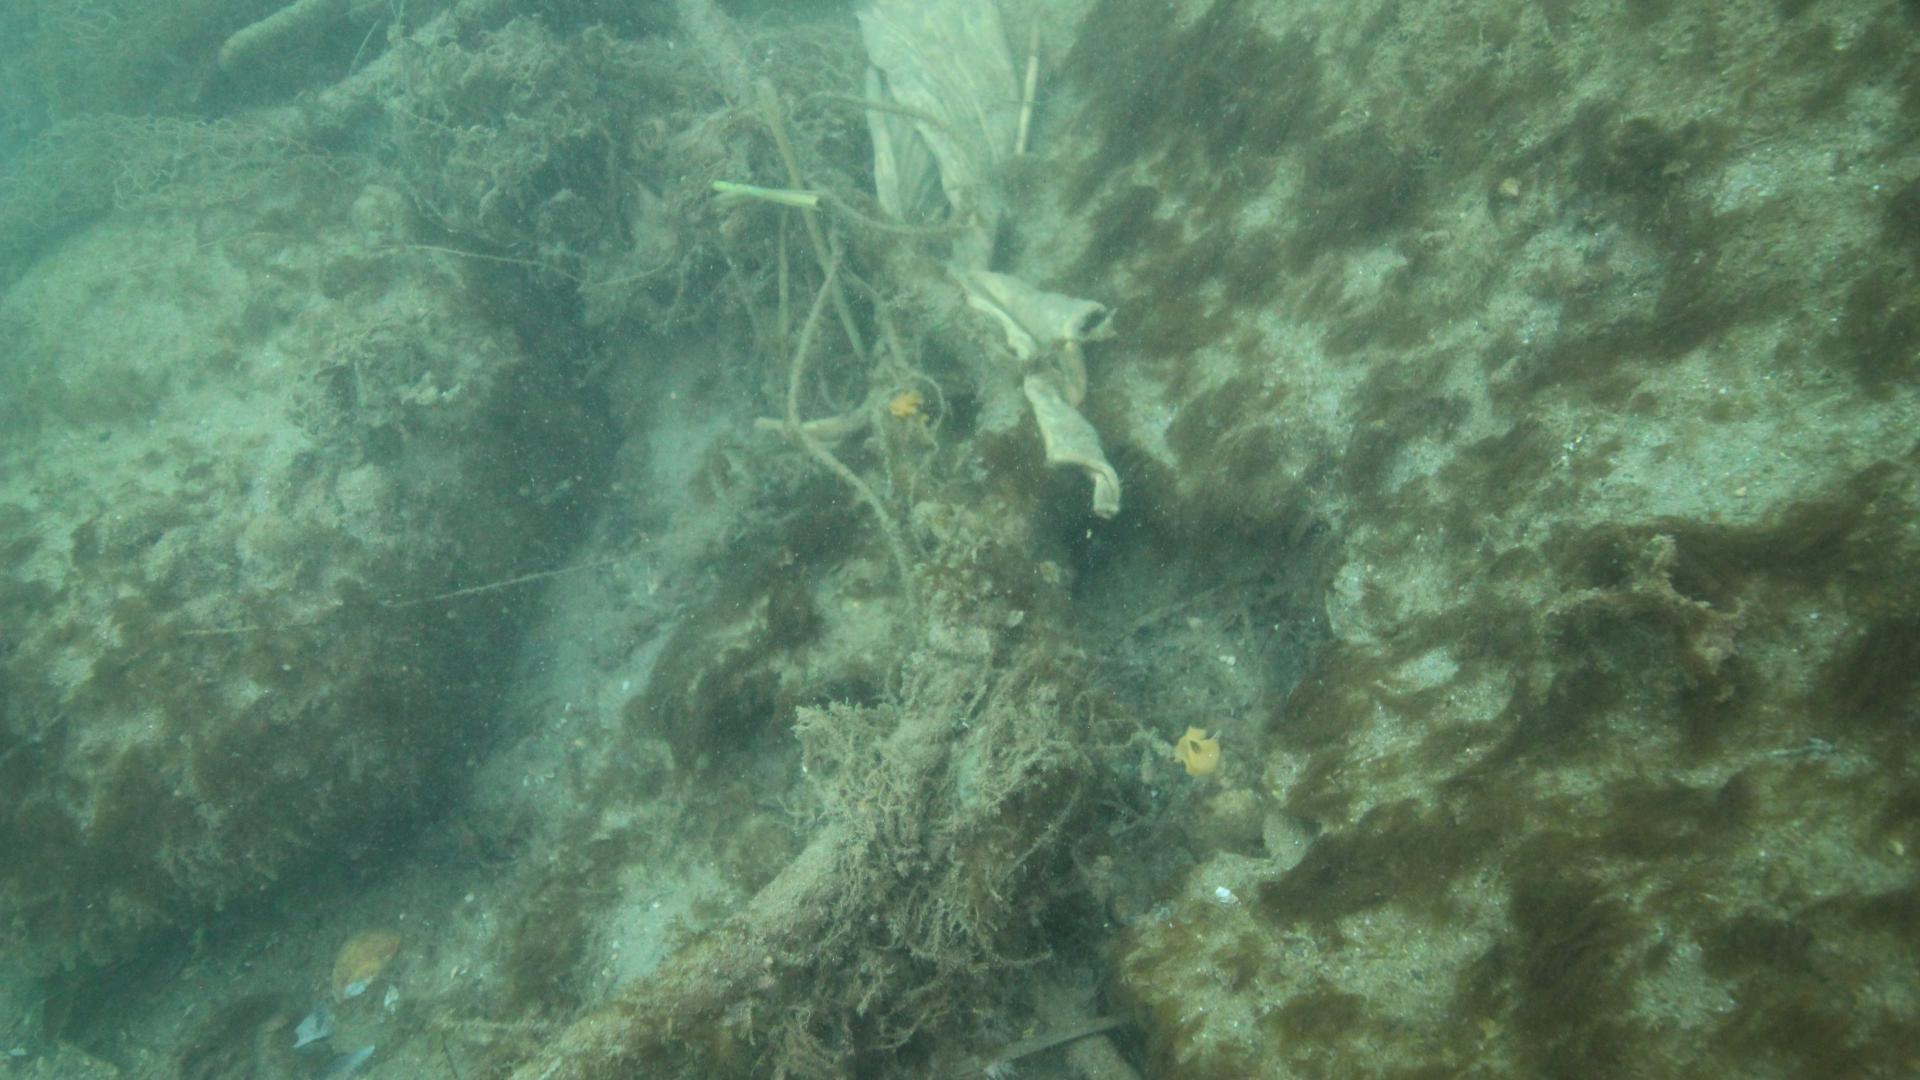rope: (498, 508, 1007, 1080), (675, 3, 752, 95)
